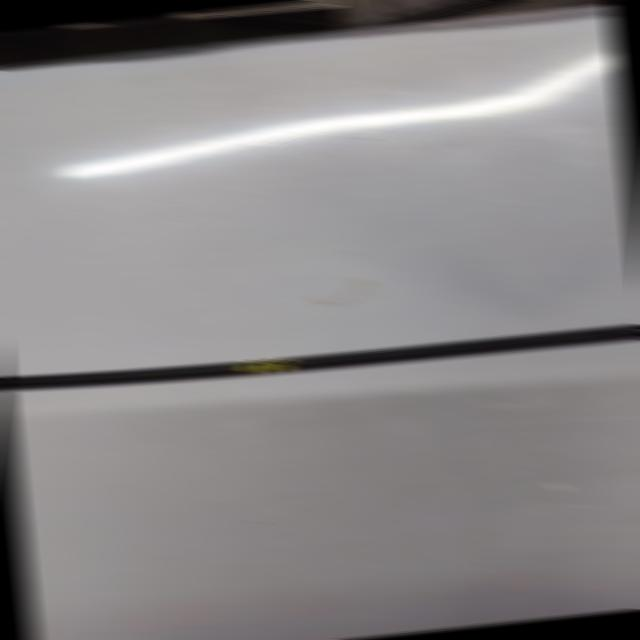yellow: (240, 357, 294, 373)
